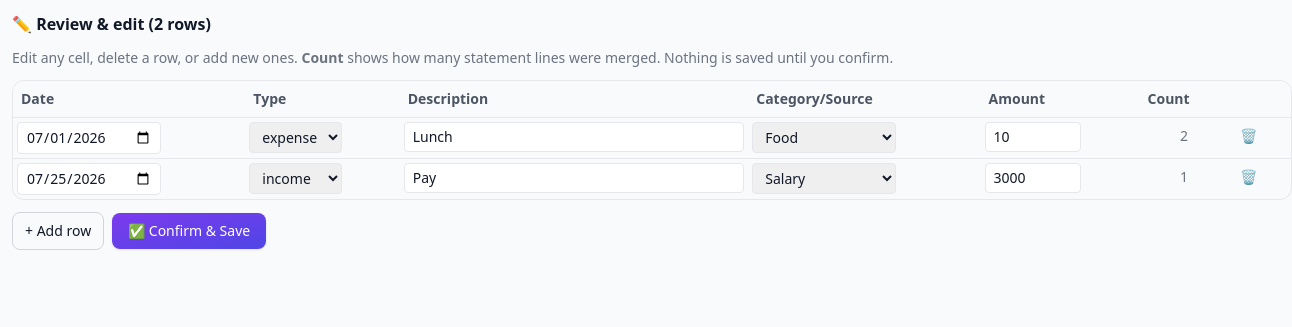
Test: TransactionPreview › adds a blank row
Click the button "+ Add row": (58,231) [12,212,104,250]
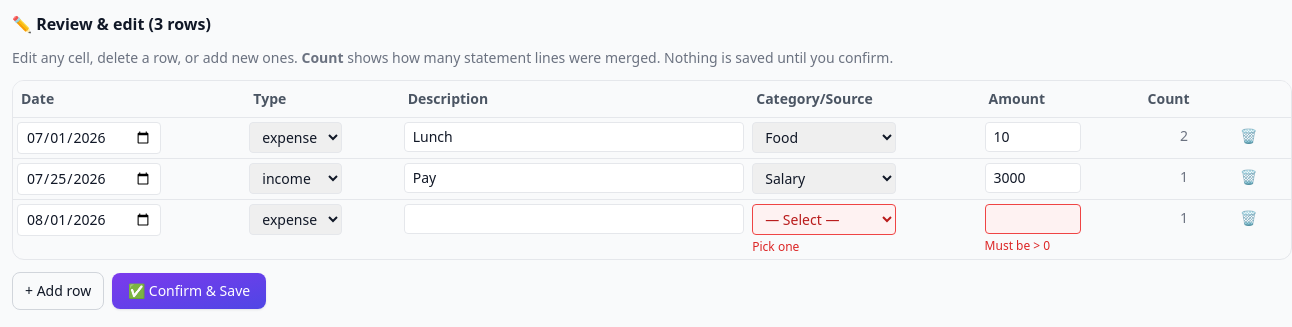
Expected: the heading "✏️ Review & edit (3 rows)" is shown, [12,13,211,35]
